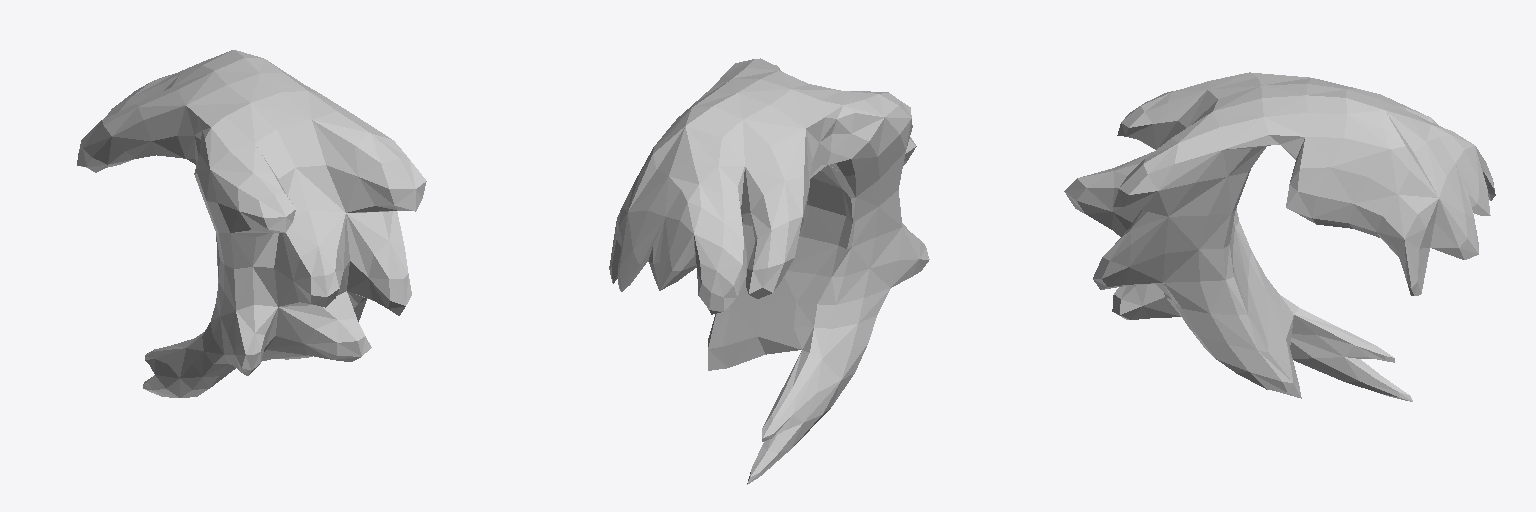
The model's file is kindled.obj.
3 renders of one model, left to right at view 1: azimuth 30°, elevation 25°; view 2: azimuth 150°, elevation 25°; view 3: azimuth 270°, elevation 25°, orthographic.
Visible parts, largest first — view 1: Cube; view 2: Cube; view 3: Cube.
Boxes of the visible parts, x1,y1,x2,y2 form: Cube: [77, 50, 426, 397]; Cube: [609, 58, 929, 484]; Cube: [1064, 72, 1495, 401].
Size of the model in its own units: 1.04 by 1.77 by 2.04.